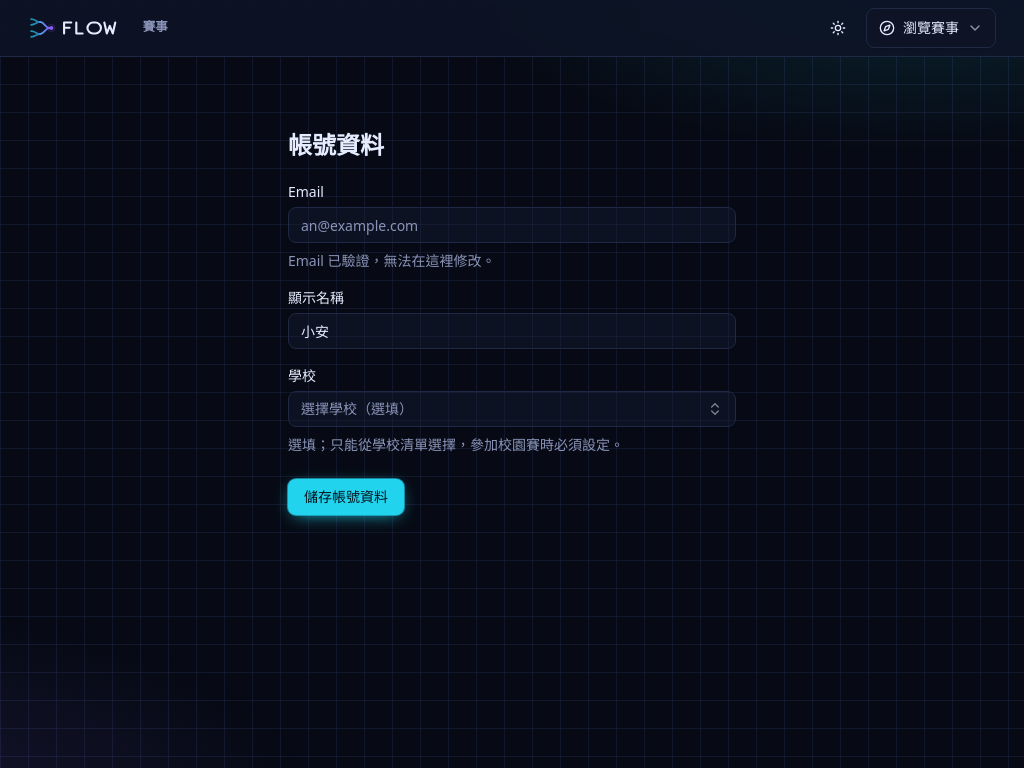
S10 帳號資料 › 顯示名稱空白：在欄位下方提示，不呼叫 API
Clear the field labelled "顯示名稱" at (512, 331), box x1=288 y1=313 x2=736 y2=349
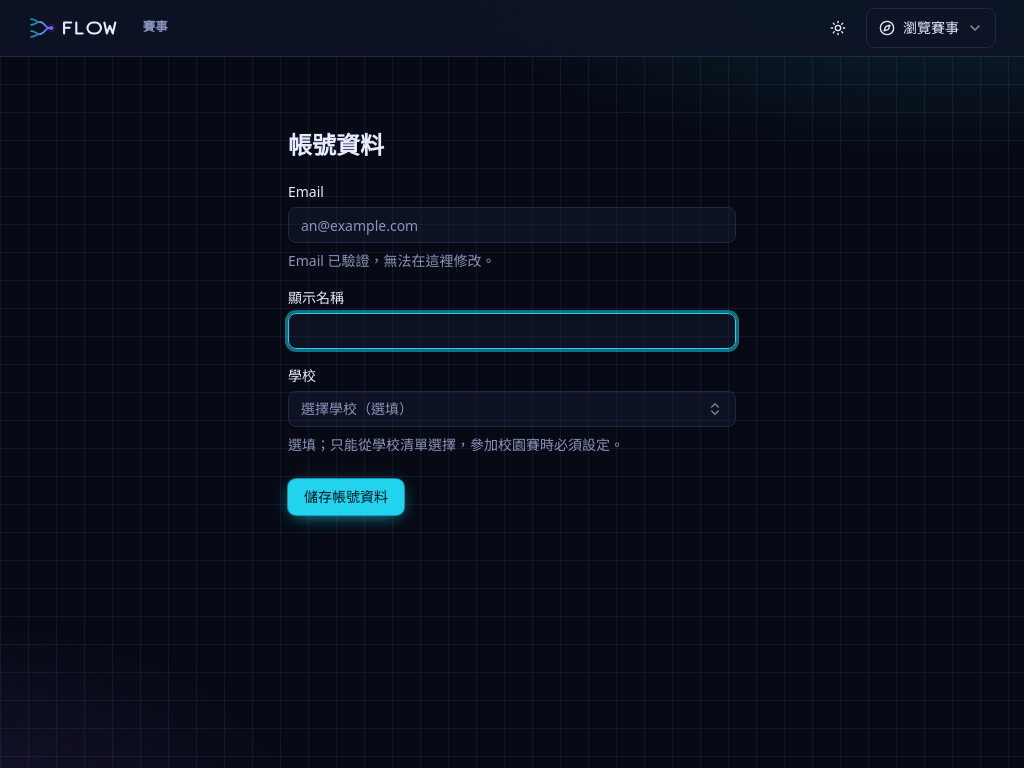
Click the button "儲存帳號資料" at (346, 497), box x1=288 y1=479 x2=404 y2=515
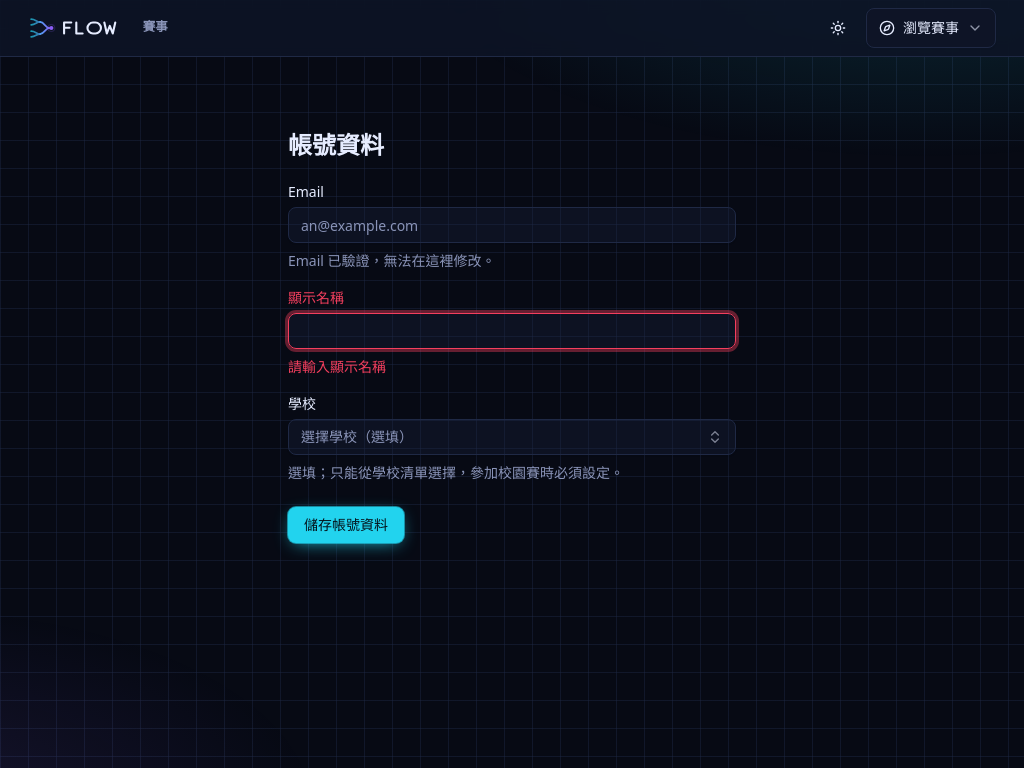
Expected: the text "請輸入顯示名稱" is shown, x1=288 y1=357 x2=386 y2=376
